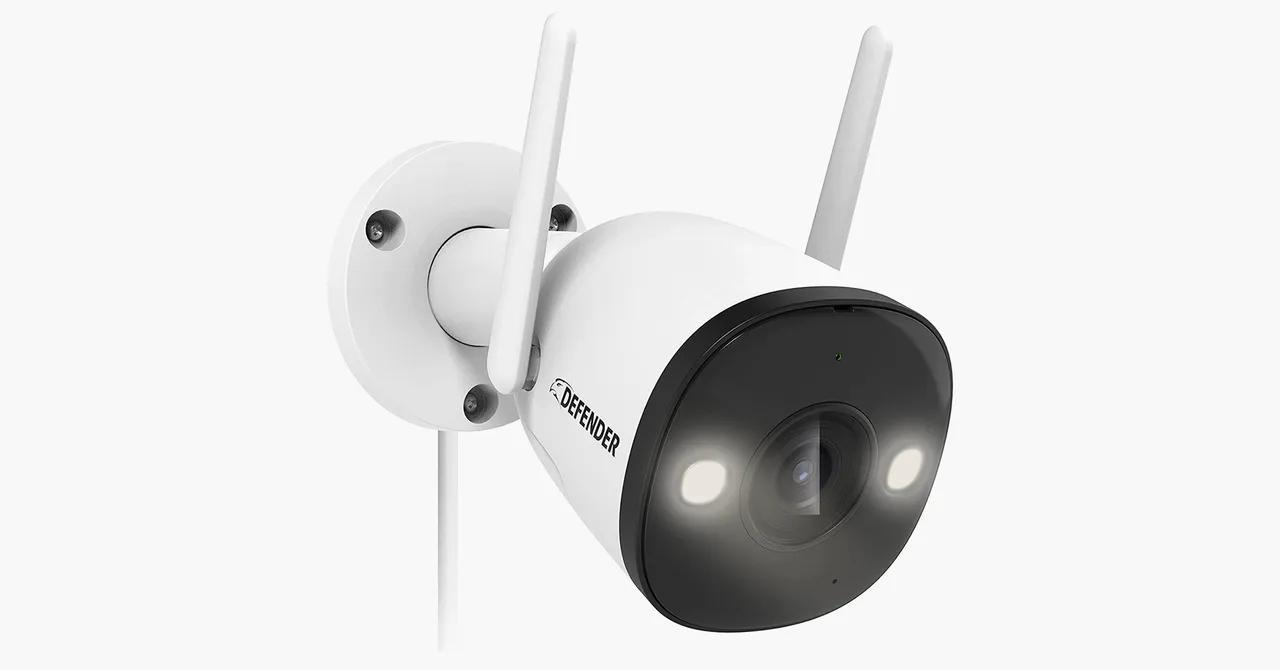camera: (283, 3, 1020, 645)
